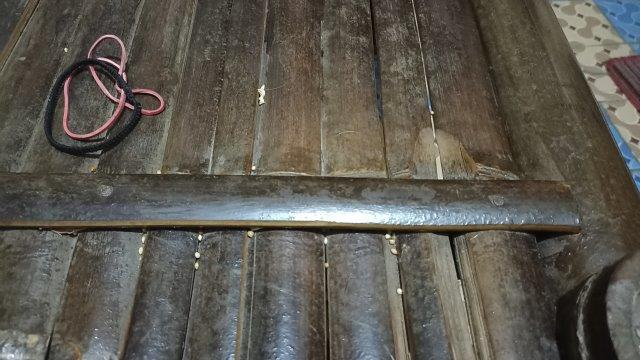karet: (43, 34, 164, 153)
